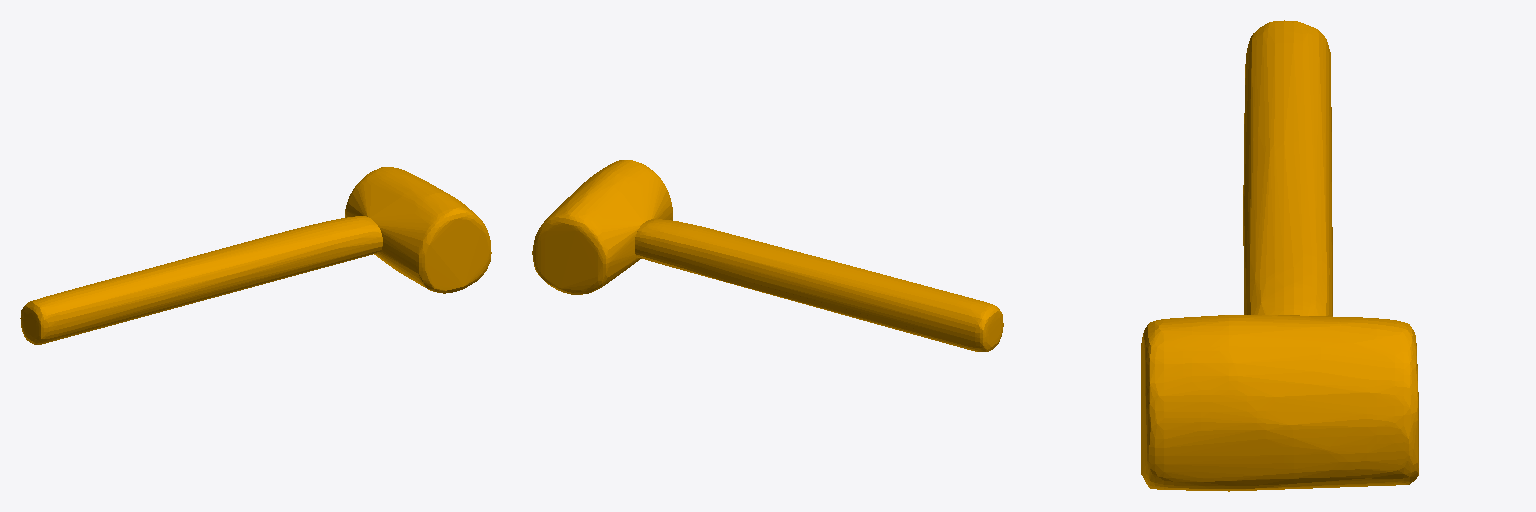
URDF robot description (mallet_hammer):
<?xml version='1.0' encoding='utf-8'?>
<robot name="mallet_hammer">
  <link name="mallet_hammer">
    <visual>
      <geometry>
        <mesh filename="mallet_hammer.obj" scale="1 1 1" />
      </geometry>
    </visual>
    <collision>
      <geometry>
        <mesh filename="mallet_hammer_collision/decomp_0.obj" scale="1 1 1" />
      </geometry>
    </collision>
    <collision>
      <geometry>
        <mesh filename="mallet_hammer_collision/decomp_1.obj" scale="1 1 1" />
      </geometry>
    </collision>
    <inertial>
      <origin xyz="0.1 0.0 0.0" rpy="0 0 0" />
      <mass value="0.333" />
      <inertia ixx="0.001" ixy="0" ixz="0" iyy="0.001" iyz="0" izz="0.001" />
    </inertial>
  </link>
</robot>

--- Facts derived from the render (not from the file) ---
Views: 3 orthographic renders of the robot side by side, from view 1: azimuth 30°, elevation 25°; view 2: azimuth 150°, elevation 25°; view 3: azimuth 270°, elevation 25°.
Robot: mallet_hammer — 1 links, 0 joints (none); root link mallet_hammer; default pose: all joints at 0.
Links seen in each view (by area): view 1: mallet_hammer; view 2: mallet_hammer; view 3: mallet_hammer.
Boxes of the visible links, box(x1,y1,x2,y2) form: mallet_hammer: box(20, 167, 491, 344); mallet_hammer: box(532, 160, 1003, 351); mallet_hammer: box(1141, 20, 1418, 491).
Bounding box of the posed robot: 0.3001 × 0.0896 × 0.0566 m (x, y, z).
1 mesh visuals loaded from 1 distinct referenced files (1 OBJ).
